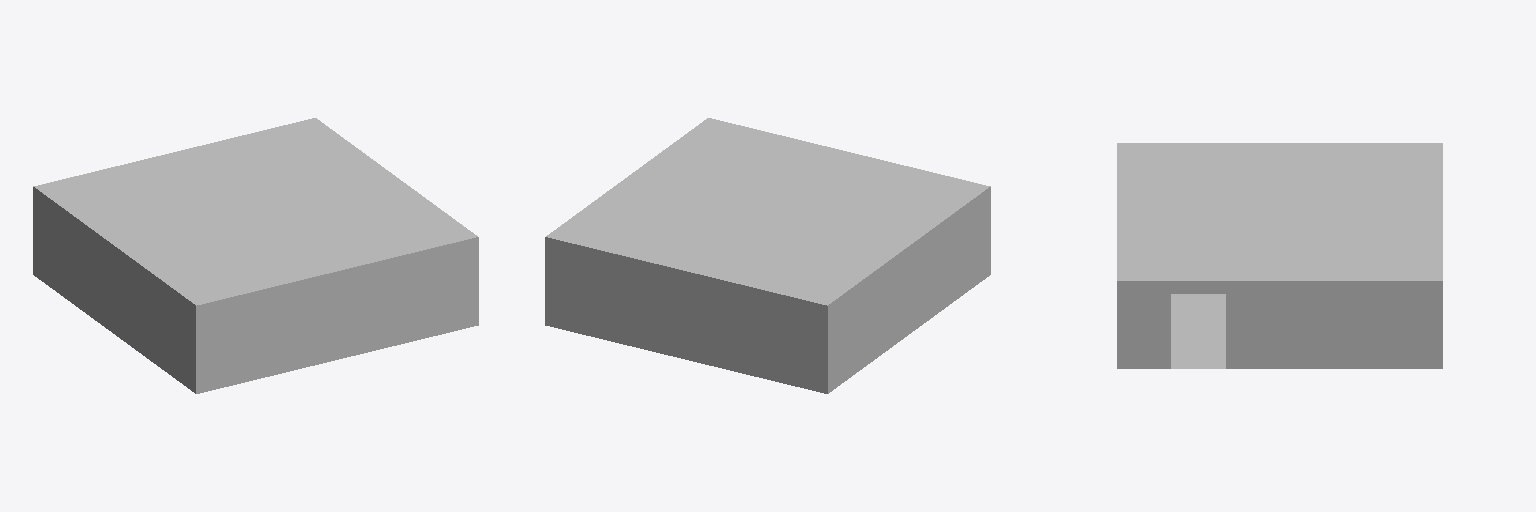
The model's file is room.obj.
3 renders of one model, left to right at view 1: azimuth 30°, elevation 25°; view 2: azimuth 150°, elevation 25°; view 3: azimuth 270°, elevation 25°, orthographic.
Visible parts, largest first — view 1: Plane; view 2: Plane; view 3: Plane.
Part boxes in pixels (x1,y1,x2,y2): Plane: (33,118,478,393); Plane: (545,118,990,393); Plane: (1117,143,1442,368).
Size of the model in its own units: 10 by 3 by 10.